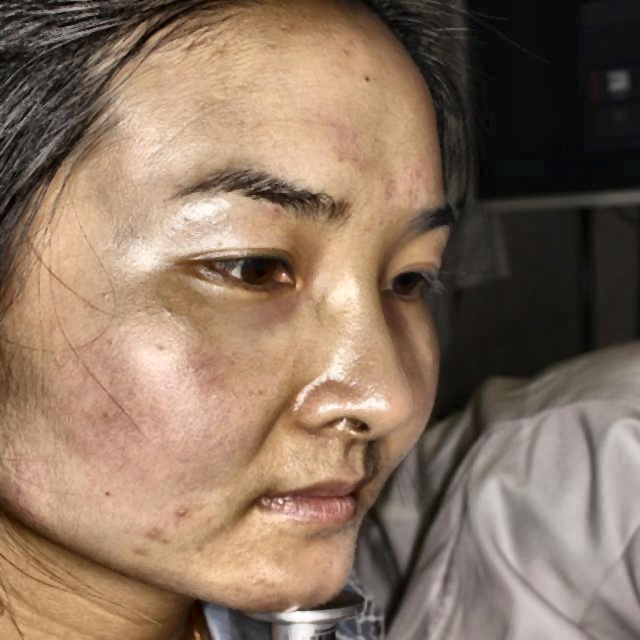comedone: (146, 522, 176, 550), (166, 503, 199, 526), (134, 539, 152, 560)
